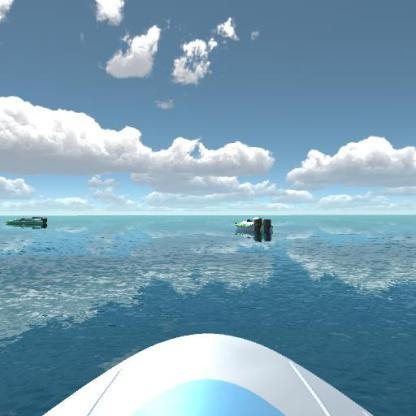usv0: (233, 212, 277, 242), (7, 211, 51, 231)
